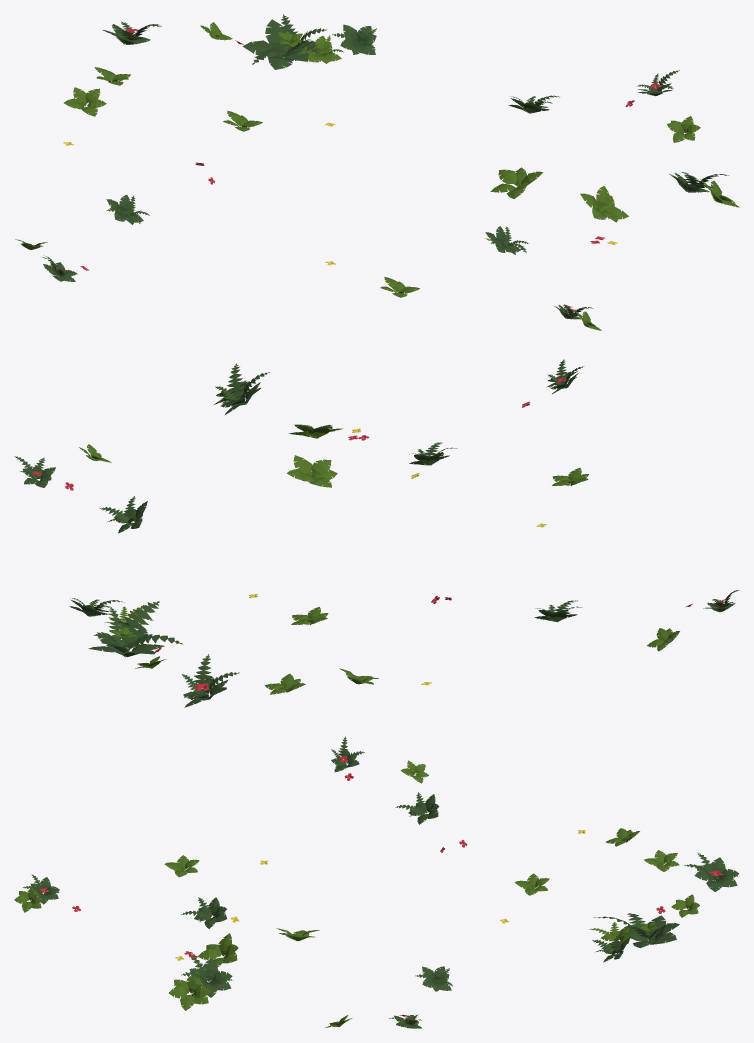
File: grass2-s1.fbx
3 renders of one model, top to bottom at view 1: azimuth 30°, elevation 25°; view 2: azimuth 150°, elevation 25°; view 3: azimuth 270°, elevation 25°, orthographic. The views are drawn at different scales.
Parts seen in each view (by area): view 1: Plane.027, Plane.023, Plane.006, Plane.007, Plane.021, Plane.019, Plane.026, Plane.033, Plane.042; view 2: Plane.027, Plane.033, Plane.007, Plane.009, Plane.010, Plane.041; view 3: Plane.027, Plane.009, Plane.033, Plane.018, Plane.006, Plane.019, Plane.010, Plane.024, Plane.037.
Boxes of the visible parts, bbox=[...] form: Plane.027: bbox=[242, 14, 326, 69]; Plane.023: bbox=[332, 24, 376, 54]; Plane.006: bbox=[580, 186, 628, 222]; Plane.007: bbox=[490, 167, 542, 198]; Plane.021: bbox=[64, 87, 106, 116]; Plane.019: bbox=[106, 195, 149, 224]; Plane.026: bbox=[298, 35, 343, 63]; Plane.033: bbox=[102, 21, 161, 44]; Plane.042: bbox=[667, 116, 700, 142]; Plane.027: bbox=[88, 601, 183, 657]; Plane.033: bbox=[182, 654, 239, 707]; Plane.007: bbox=[286, 455, 337, 487]; Plane.009: bbox=[215, 363, 269, 414]; Plane.010: bbox=[99, 496, 147, 533]; Plane.041: bbox=[14, 456, 55, 487]; Plane.027: bbox=[593, 913, 679, 948]; Plane.009: bbox=[181, 955, 233, 997]; Plane.033: bbox=[684, 852, 739, 891]; Plane.018: bbox=[168, 971, 210, 1010]; Plane.006: bbox=[198, 933, 238, 967]; Plane.019: bbox=[395, 792, 439, 824]; Plane.010: bbox=[415, 966, 452, 991]; Plane.024: bbox=[22, 874, 59, 904]; Plane.037: bbox=[331, 736, 364, 772].
Bounding box in the file's own units: 83.43 × 5.89 × 91.48.
